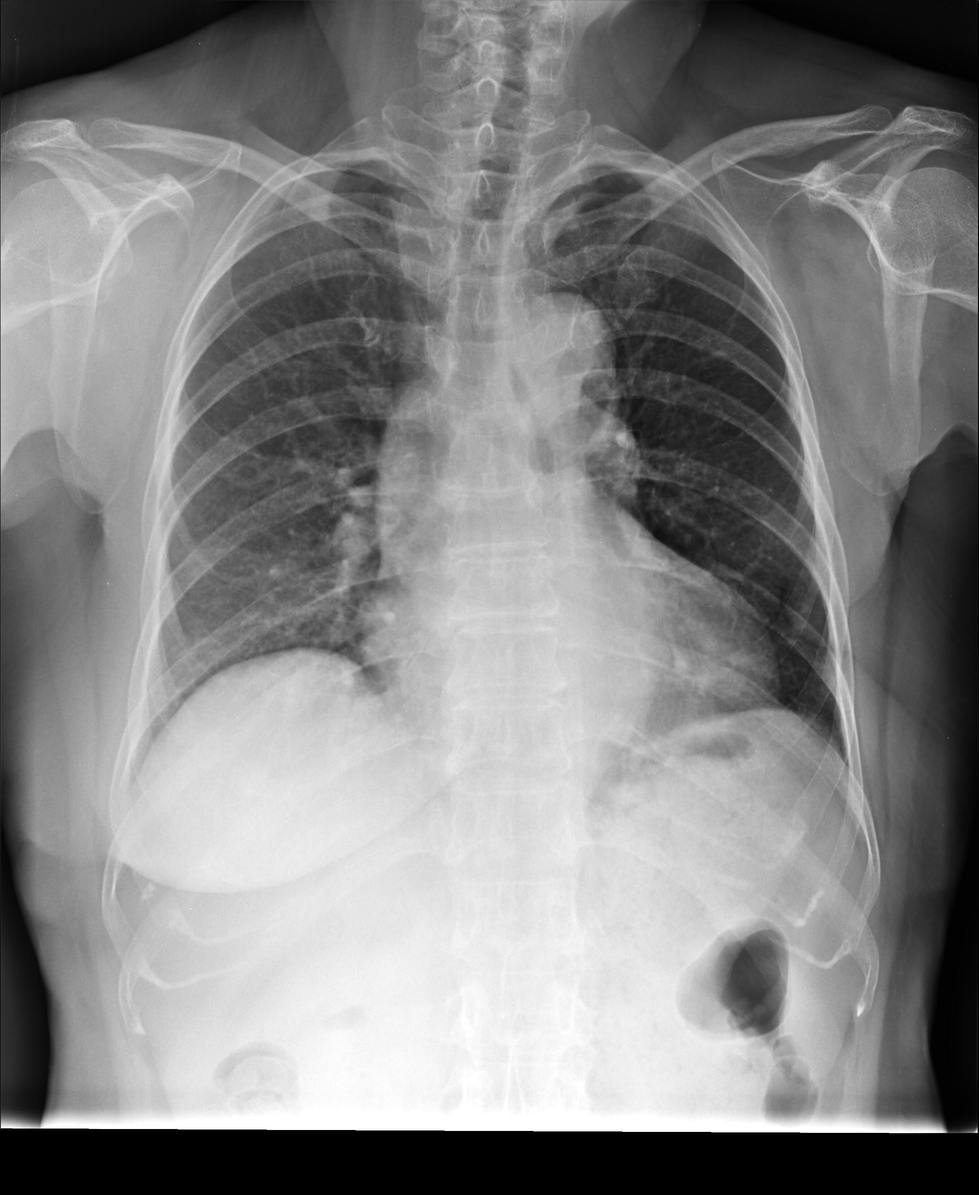Aortic enlargement: (383, 295, 620, 587)
Cardiomegaly: (346, 600, 786, 706)
